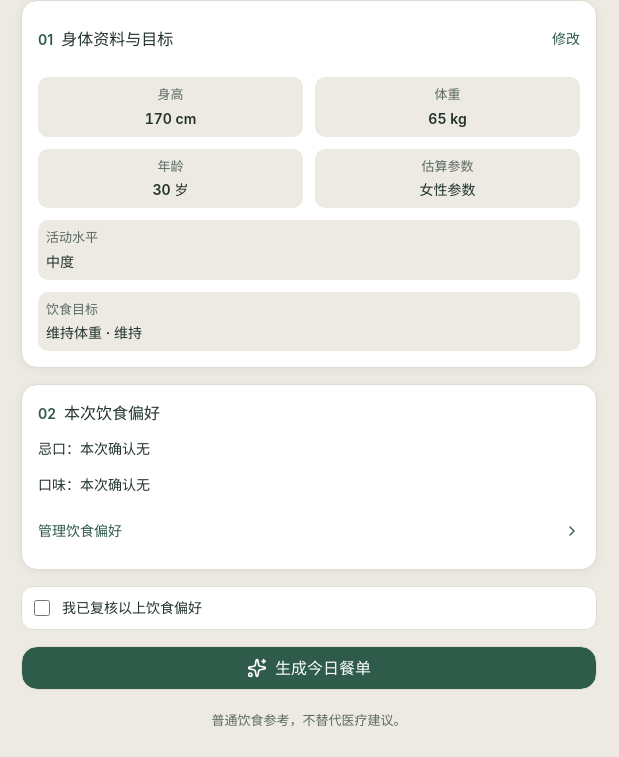
Scenario: PlanPage › preserves the actionable failure without a health refusal: 按已确认的忌口筛选后，早餐没有可用候选。请核对饮食偏好，或联系管理员补充合适菜谱；系统不会自动放宽忌口。
The width and height of the screenshot is (619, 757).
Expected: the text "170 cm" is shown, x1=145 y1=110 x2=196 y2=126
Click the checkbox labelled "我已复核以上饮食偏好". click: click(42, 608)
box: x1=34 y1=600 x2=50 y2=616
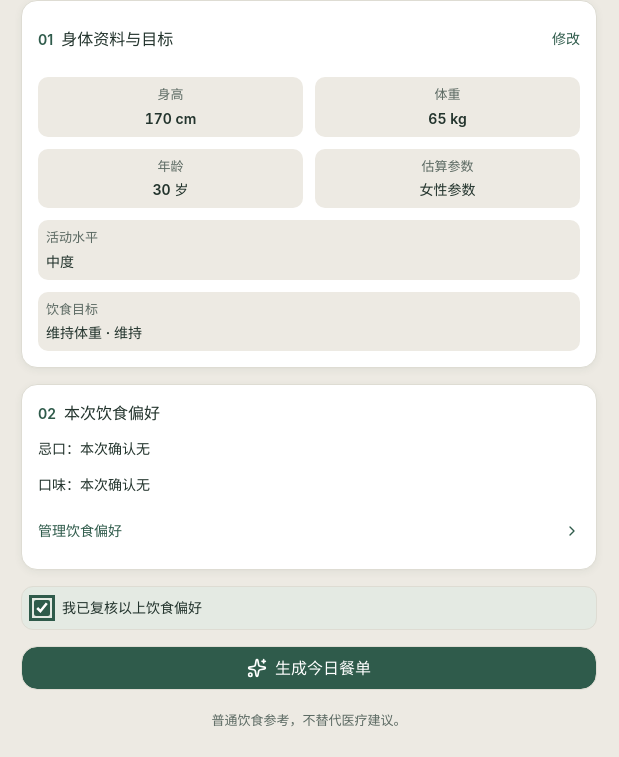
Click the button "生成今日餐单". click: click(309, 668)
box: x1=21 y1=646 x2=597 y2=690
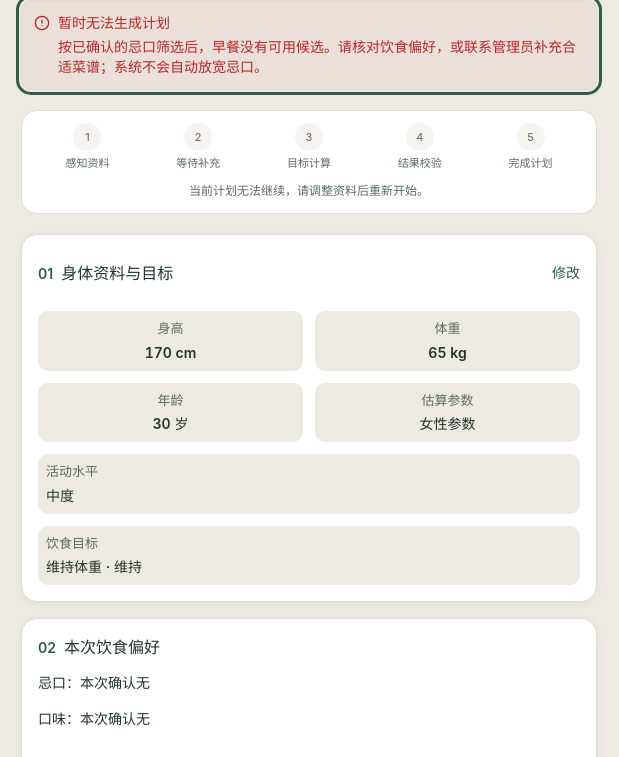
Expected: the text "暂时无法生成计划" shows "按已确认的忌口筛选后，早餐没有可用候选。请核对饮食偏好，或联系管理员补充合适菜谱；系统不会自动放宽忌口。", x1=58 y1=38 x2=576 y2=75
Expected: the text "按已确认的忌口筛选后，早餐没有可用候选。请核对饮食偏好，或联系管理员补充合适菜谱；系统不会自动放宽忌口。" is shown, x1=58 y1=37 x2=584 y2=77
